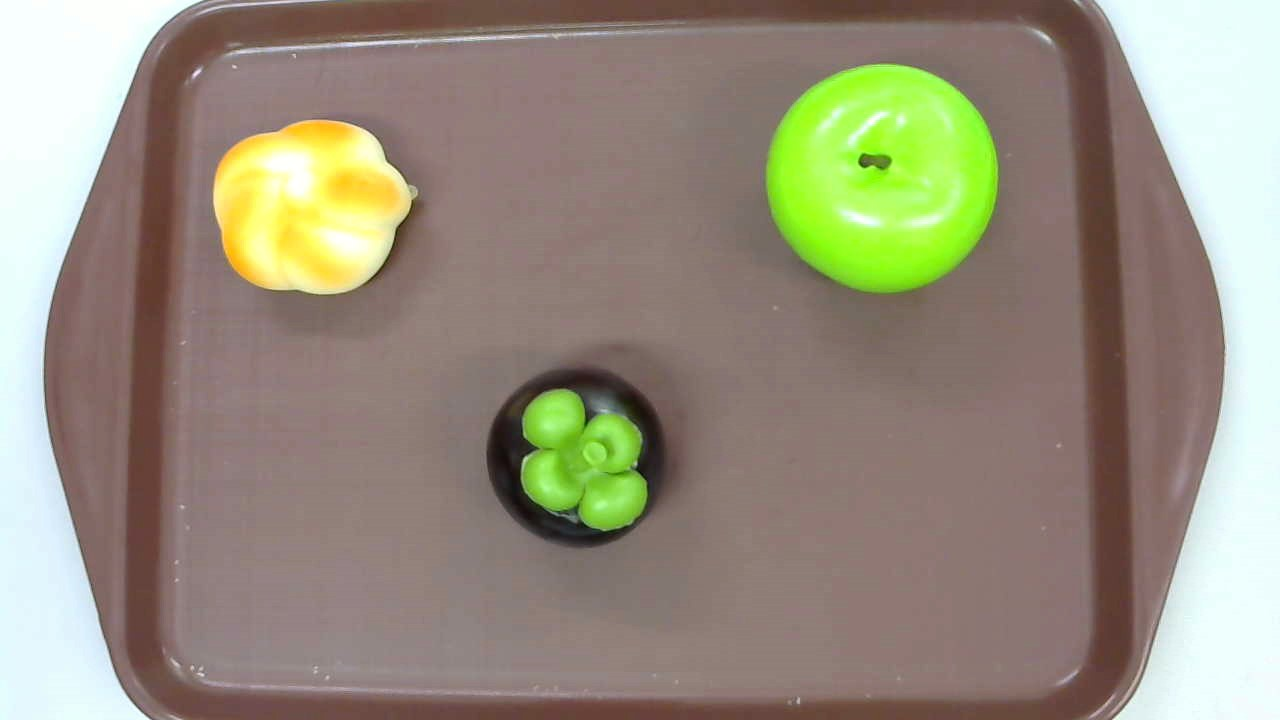green apple: (766, 63, 1000, 294)
mangosteen: (486, 364, 666, 548)
twist bread: (212, 120, 418, 297)
